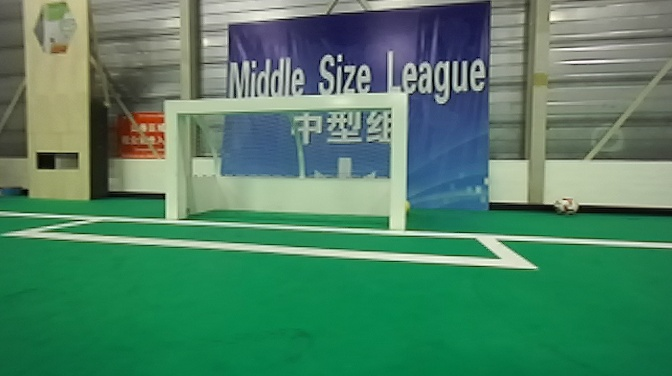ball: (549, 194, 580, 219), (398, 189, 417, 213)
goalpost: (384, 89, 412, 234), (161, 91, 188, 220)
